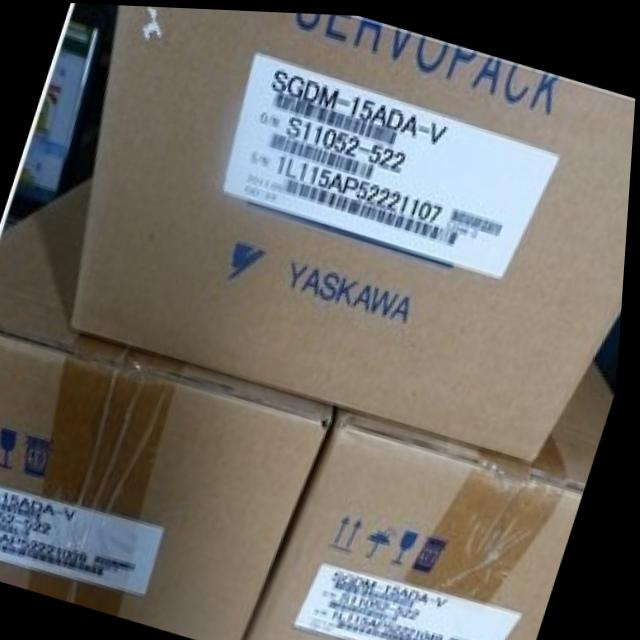box: (73, 4, 636, 457), (0, 179, 337, 640), (253, 353, 616, 640)
